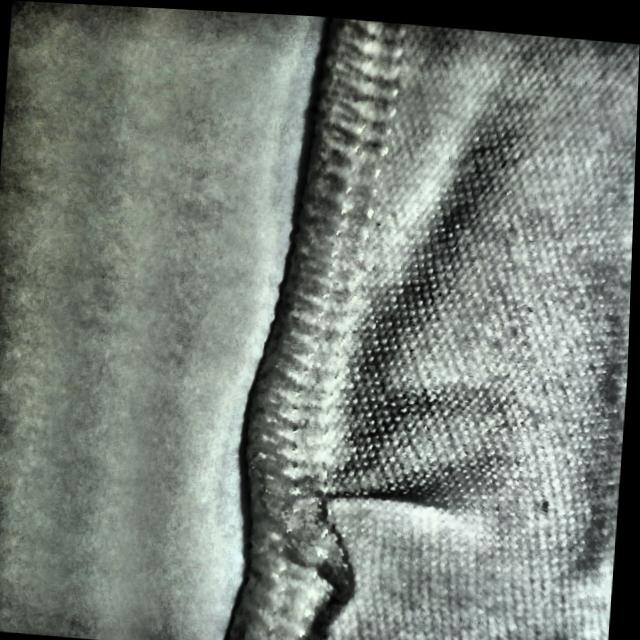seam: (225, 427, 454, 640)
